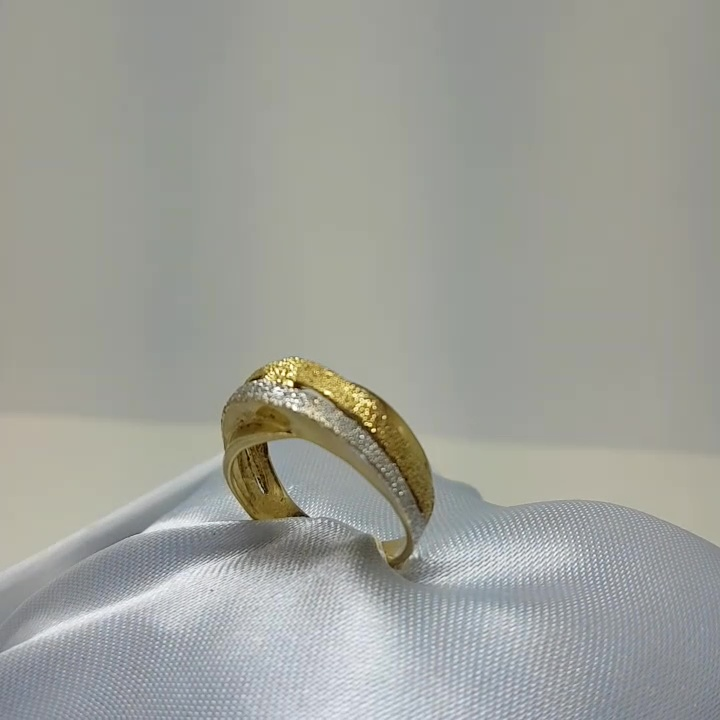Ring 5: (203, 354, 456, 574)
